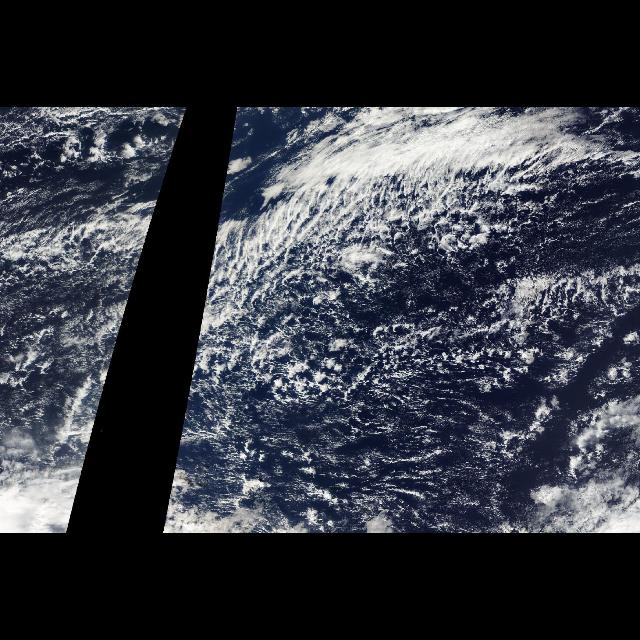Fish: (210, 108, 630, 336)
Gravel: (178, 198, 640, 534), (0, 198, 160, 438), (0, 108, 178, 182)
Sugar: (165, 438, 620, 532)
